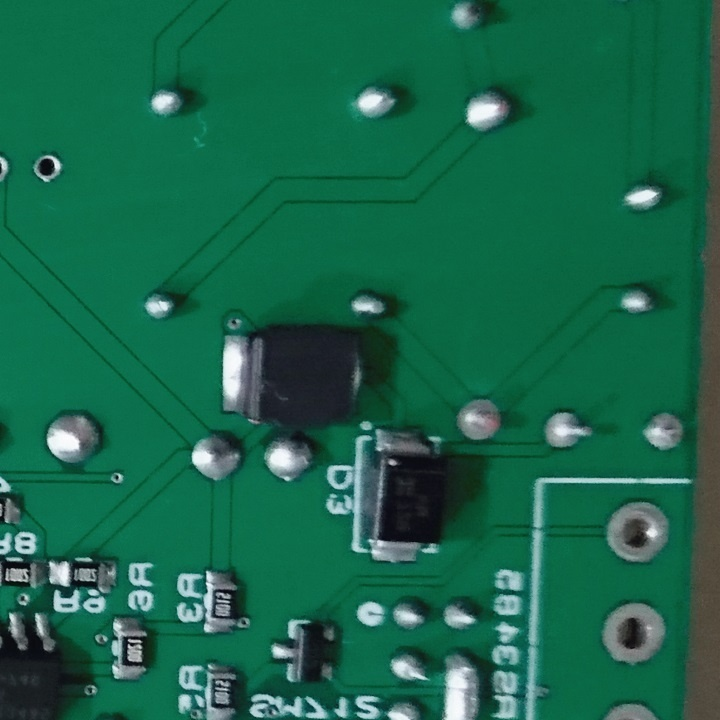F: (600, 592, 666, 672), (602, 495, 670, 565), (447, 393, 507, 446), (542, 408, 593, 455), (639, 407, 686, 455), (30, 149, 64, 189)
P: (433, 645, 486, 720)
